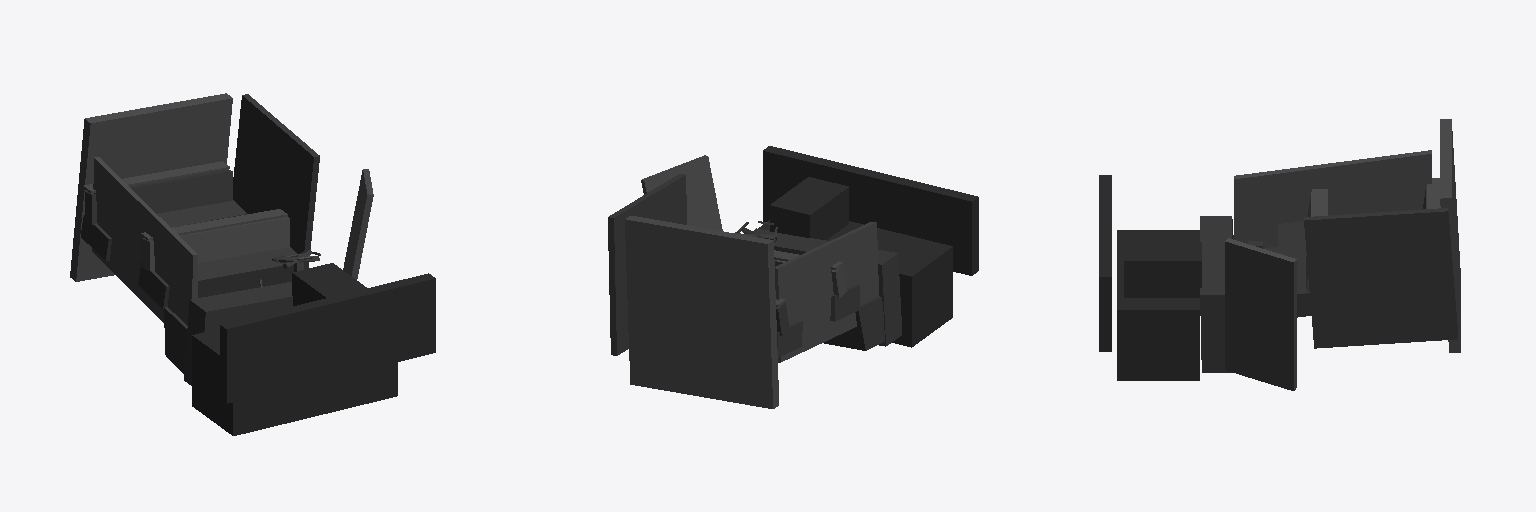
Rendered from truck_spider1plein.obj.
The picture shows the model from 3 angles: view 1: azimuth 30°, elevation 25°; view 2: azimuth 150°, elevation 25°; view 3: azimuth 270°, elevation 25°; orthographic projection.
Parts seen in each view (by area): view 1: Cube.000_Cube.039, Cube.009, Cube_Cube.001, Cube.063, Cube.114, Cube.059, Cube.000_Cube.001, Cube.001_Cube.001, Cube.065, Cube.058, Cube.012_Cube.040, Cube.036 (+3 smaller); view 2: Cube.009, Cube.000_Cube.039, Cube.114, Cube_Cube.001, Cube.063, Cube.012_Cube.040, Cube.036, Cube.001_Cube.001, Cube.003_Cube.010, Cube.059, Cube.058; view 3: Cube.063, Cube.114, Cube.036, Cube_Cube.001, Cube.012_Cube.040, Cube.001_Cube.001, Cube.009, Cube.000_Cube.039, Cube.059.
Part boxes in pixels (x1,y1,x2,y2): Cube.000_Cube.039: (220,273,435,403); Cube.009: (70,93,232,281); Cube_Cube.001: (192,328,397,435); Cube.063: (233,94,319,269); Cube.114: (92,157,197,325); Cube.059: (138,247,304,308); Cube.000_Cube.001: (142,217,289,270); Cube.001_Cube.001: (184,282,292,385); Cube.065: (84,169,232,224); Cube.058: (81,200,246,260); Cube.012_Cube.040: (292,263,366,305); Cube.036: (343,169,373,279); Cube.009: (625,216,778,408); Cube.000_Cube.039: (763,146,978,275); Cube.114: (775,222,878,362); Cube_Cube.001: (758,220,952,347); Cube.063: (608,174,686,355); Cube.012_Cube.040: (770,177,848,239); Cube.036: (641,155,722,230); Cube.001_Cube.001: (753,228,901,346); Cube.003_Cube.010: (824,296,884,350); Cube.059: (830,284,859,321); Cube.058: (777,321,802,357); Cube.063: (1304,208,1457,348); Cube.114: (1233,150,1431,247); Cube.036: (1225,238,1296,390); Cube_Cube.001: (1117,230,1199,380); Cube.012_Cube.040: (1124,242,1201,297); Cube.001_Cube.001: (1200,216,1232,372); Cube.009: (1440,119,1460,352); Cube.000_Cube.039: (1099,175,1111,351); Cube.059: (1278,221,1311,317).
Size of the model in its own units: 14.29 by 10.87 by 18.68.